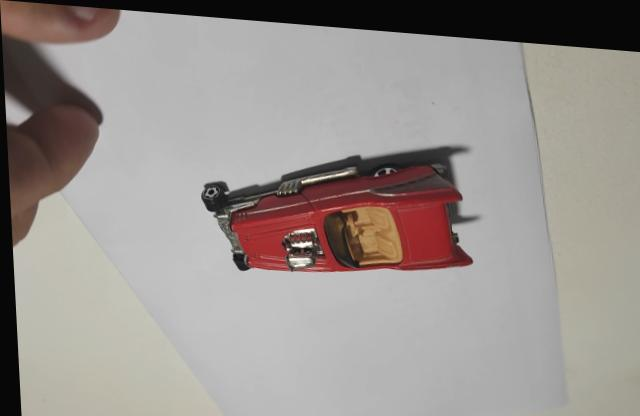03_V8: (200, 145, 473, 267)
